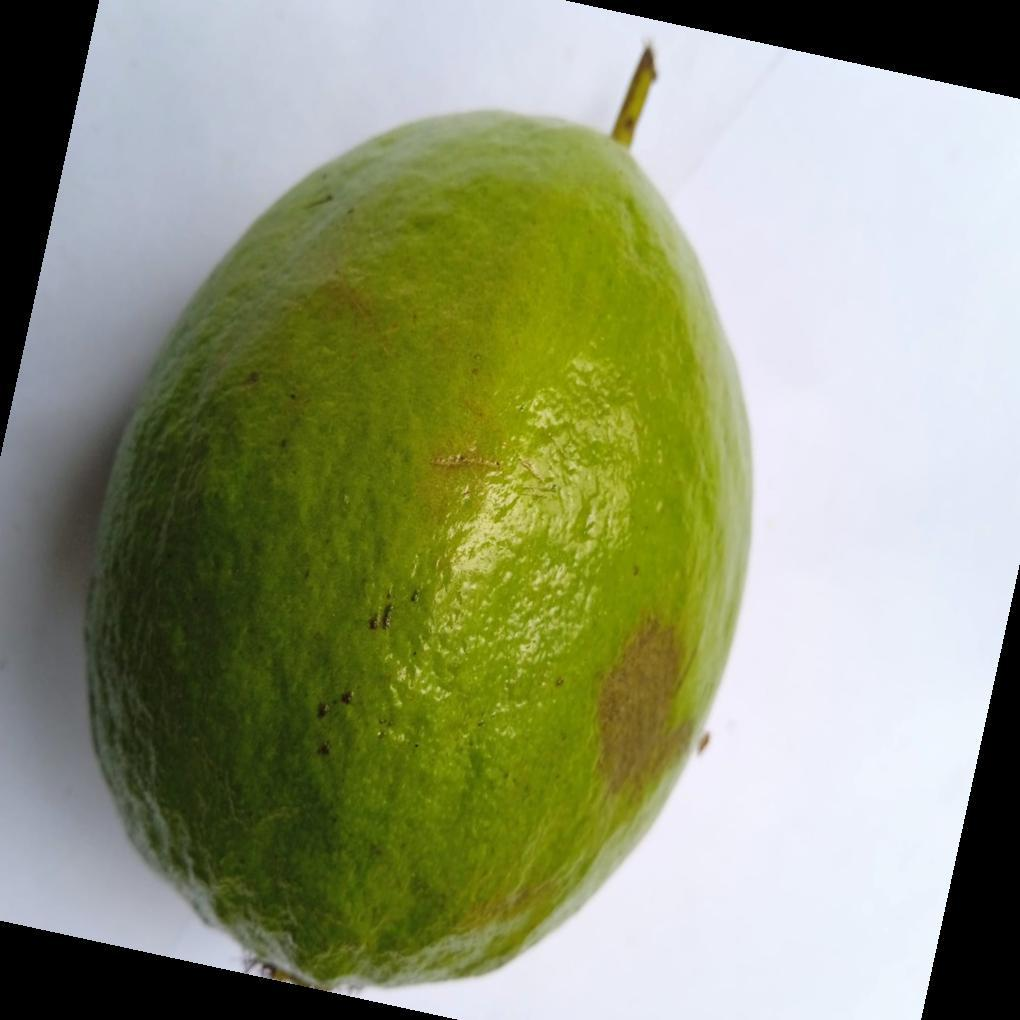FreshGuava: (82, 109, 756, 996)
